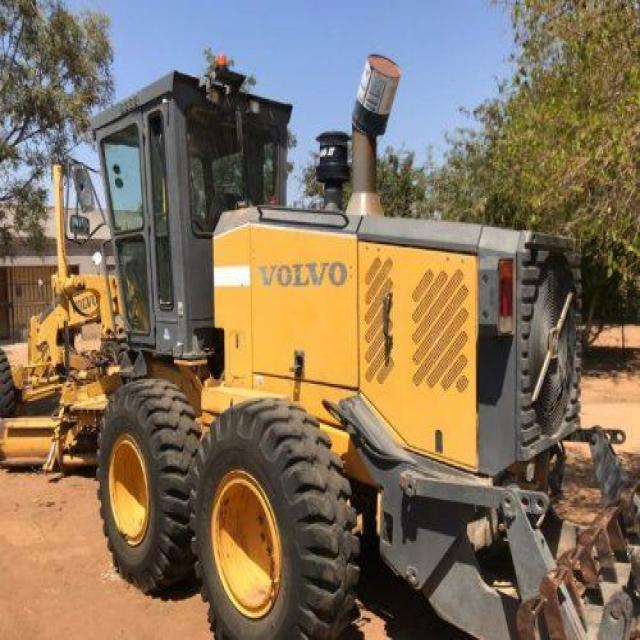Grader: (1, 51, 626, 632)
